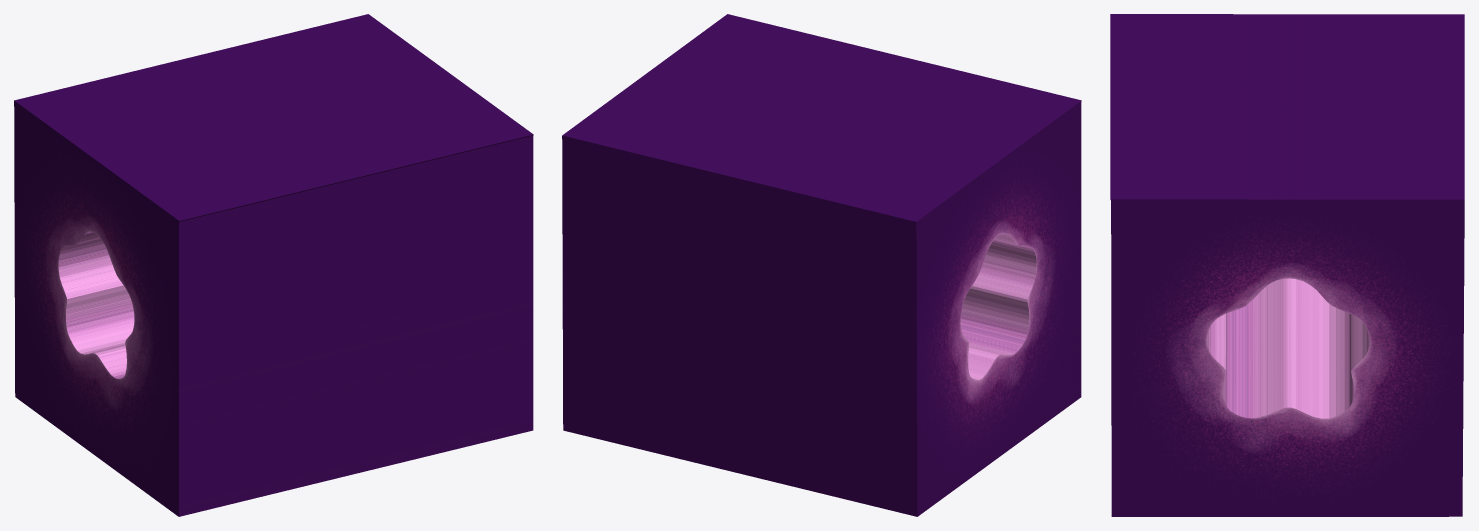
Rendered from caveexit3.fbx.
3 renders of one model, left to right at view 1: azimuth 30°, elevation 25°; view 2: azimuth 150°, elevation 25°; view 3: azimuth 270°, elevation 25°, orthographic. The views are drawn at different scales.
Parts seen in each view (by area): view 1: caveexit3; view 2: caveexit3; view 3: caveexit3.
Boxes of the visible parts, x1=… form: caveexit3: x1=14, y1=14, x2=533, y2=516; caveexit3: x1=562, y1=14, x2=1081, y2=516; caveexit3: x1=1110, y1=14, x2=1464, y2=516.
Bounding box in the file's own units: 367 × 293 × 297.
